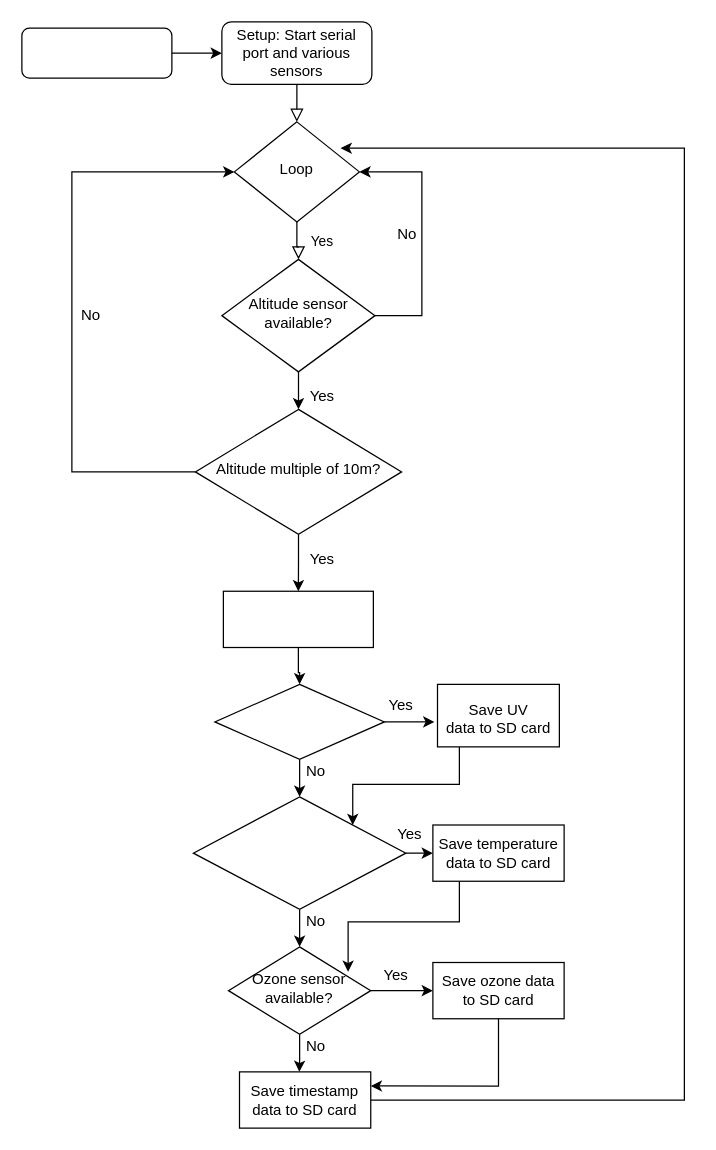
Image size: 716x1150. Some labels were removed from this diagram. The shapes that lost their labels are listed below. From the top down, each one's box as (x1, y1, x2, y2) in pixels, then its label:
(21, 27, 172, 78): Program start
(222, 590, 373, 648): Save altitude data to SD card
(214, 683, 384, 759): UV sensor available?
(192, 796, 406, 909): Temperature sensor available?
